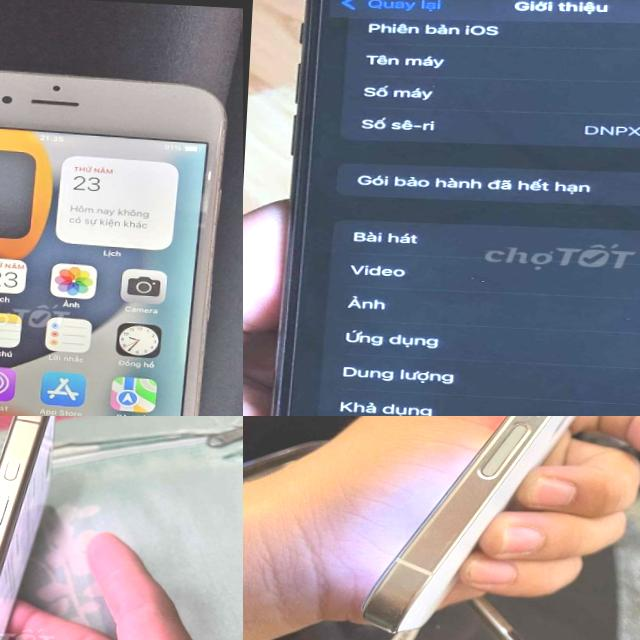gen_15: (350, 416, 640, 640)
gen_16: (0, 416, 75, 640)
gen_6: (0, 72, 225, 416)
gen_x_xs: (271, 0, 640, 416)
